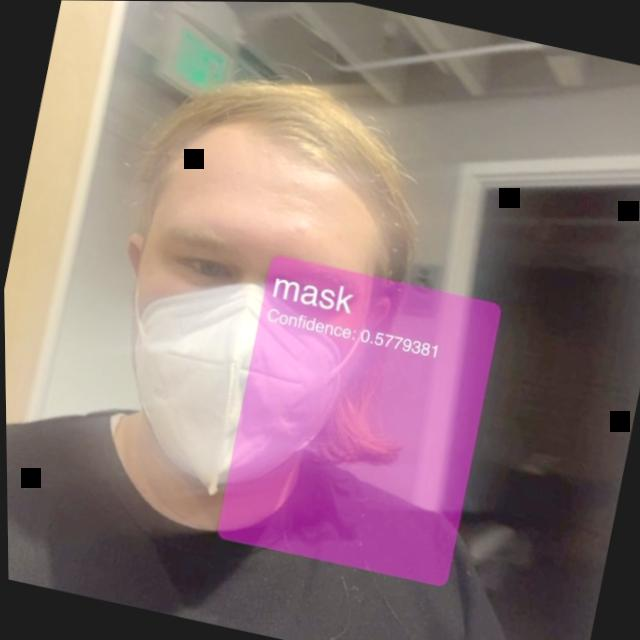Mask: (46, 50, 484, 585)
